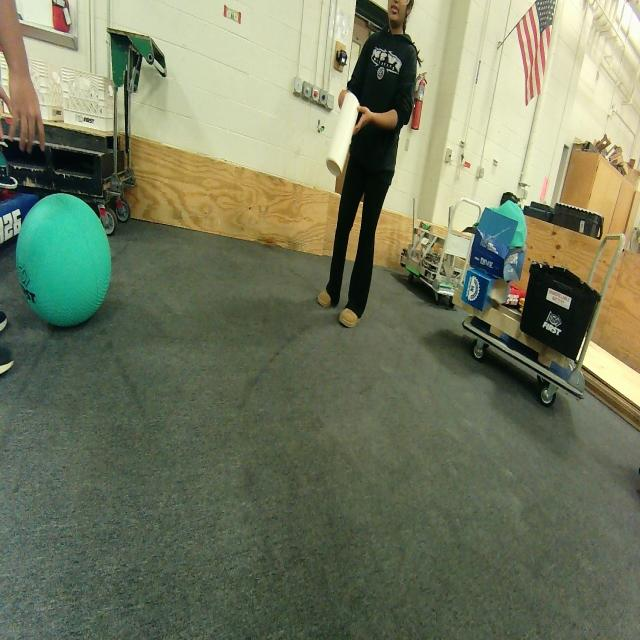algae: (16, 194, 111, 325)
